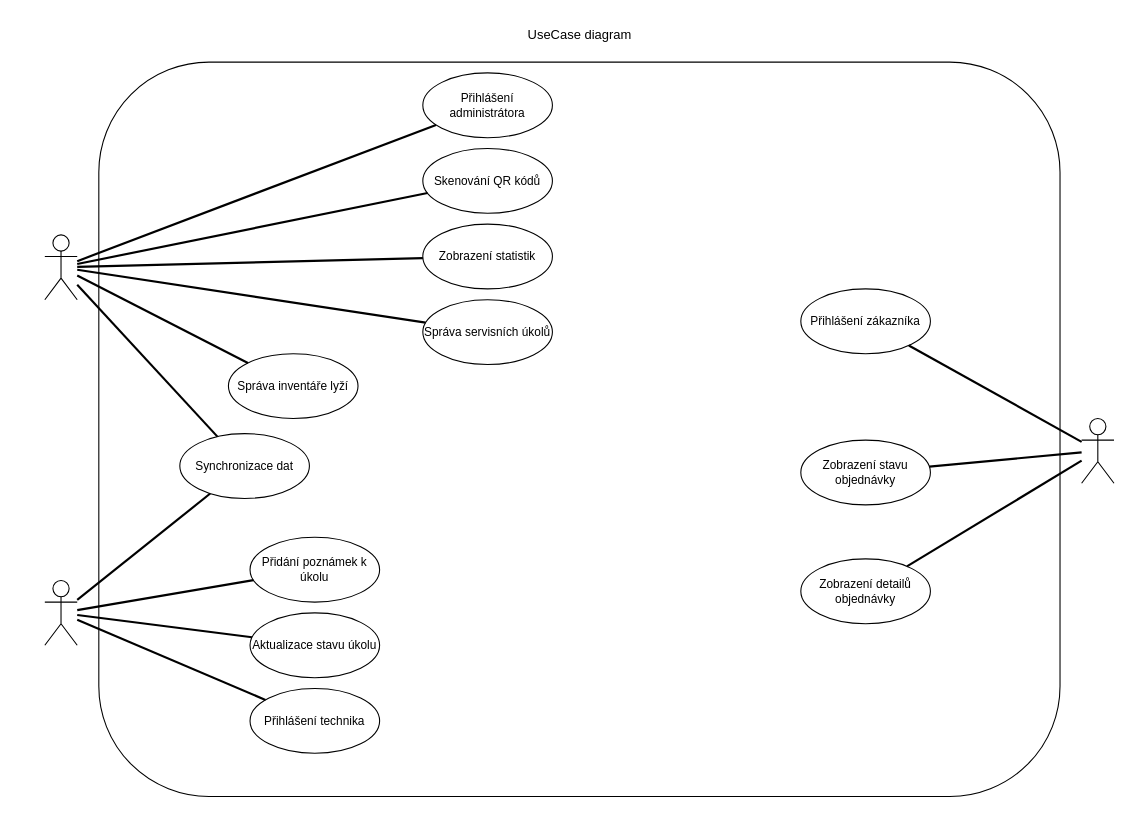
The diagram is 1144 pixels wide and 815 high, and some of its shapes have lost their labels. The shapes that lost their labels are listed below. From the top down, each one's box as (x1, y1, x2, y2) in pixels, then its label:
(44, 234, 77, 300): Administrátor
(1081, 417, 1114, 483): Zákazník
(44, 579, 77, 645): Technik
